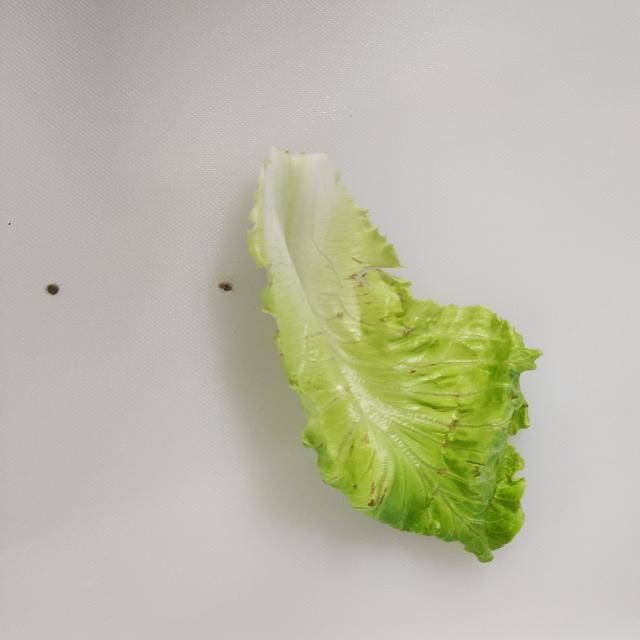lettuce: (245, 145, 543, 563)
